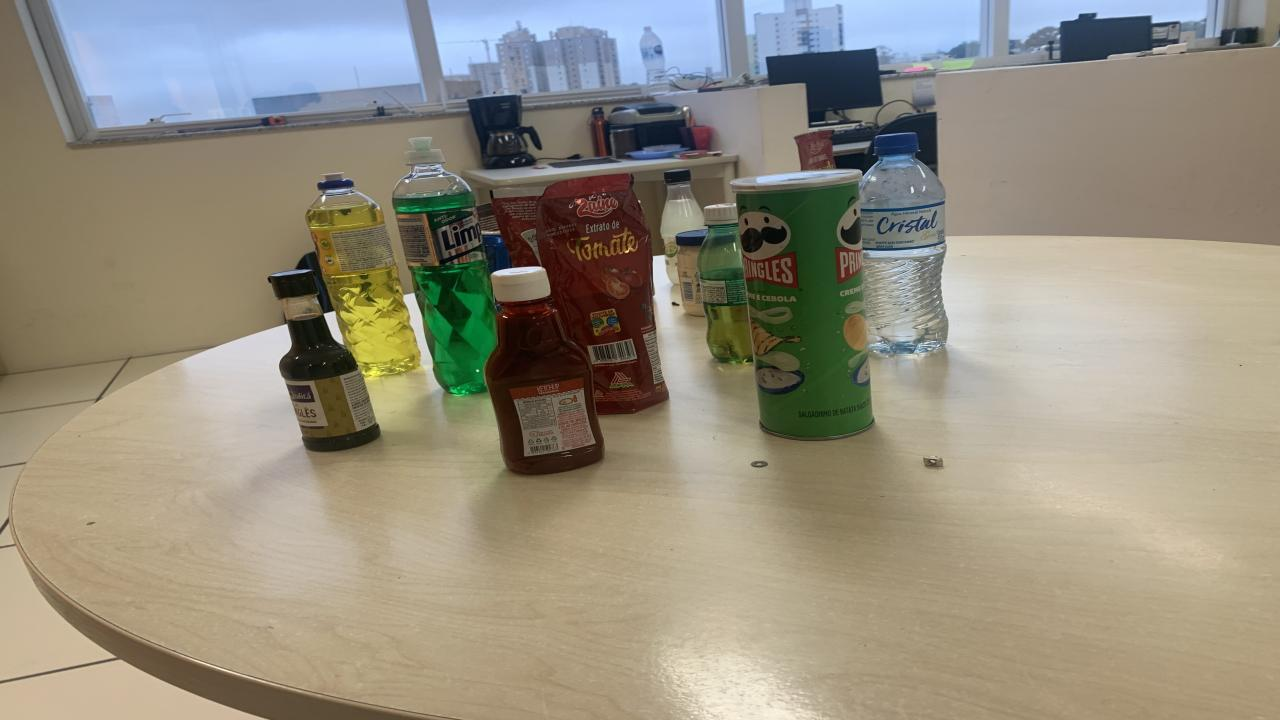Detergent-Cleanup_Items: (392, 141, 495, 394), (305, 174, 420, 375)
English_Sauce-Pantry_Items: (270, 270, 380, 452)
Guarana-Drinks: (698, 202, 752, 364)
Ketchup-Pantry_Items: (485, 266, 605, 474)
Mayonnaise-Pantry_Items: (675, 229, 708, 317)
Pringles-Snacks: (730, 169, 872, 441)
Soda-Drinks: (660, 169, 705, 283)
Tomato_Sauce-Pantry_Items: (538, 176, 670, 414), (490, 188, 545, 266), (795, 129, 835, 171)
Water_Bottle-Drinks: (860, 133, 948, 354)
